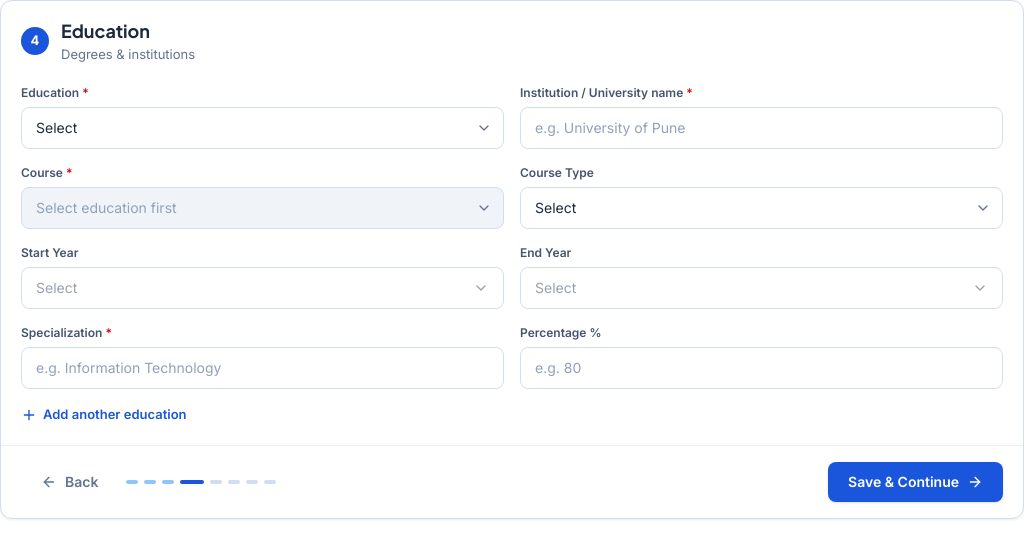
Test: EducationStep › surfaces the rule the API rejected rather than a bare retry prompt
The width and height of the screenshot is (1024, 537).
Select "B.Tech" in the dropdown labelled "Education *" at (262, 128), box [21,106,504,148]
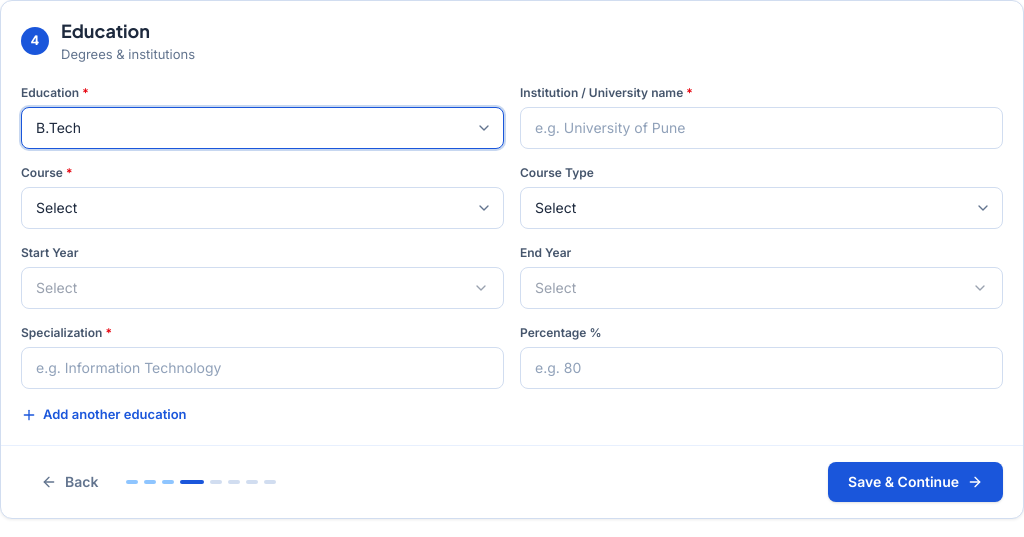
Type "Patna University" into the dropdown labelled "Institution / University name *" at (762, 128), box [520,106,1003,148]
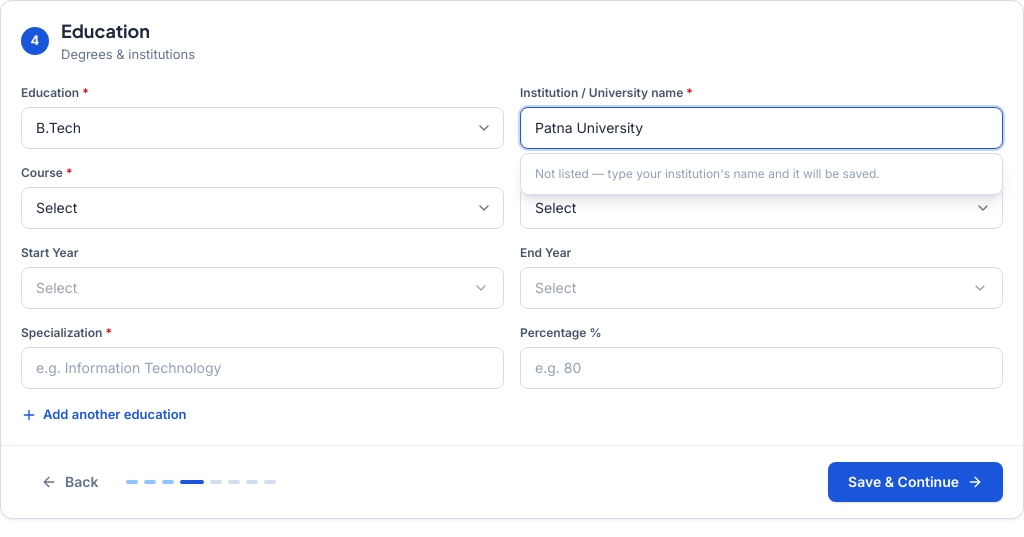
Select "Computer Science and Engineering" in the dropdown labelled "Course *" at (262, 208), box [21,186,504,228]
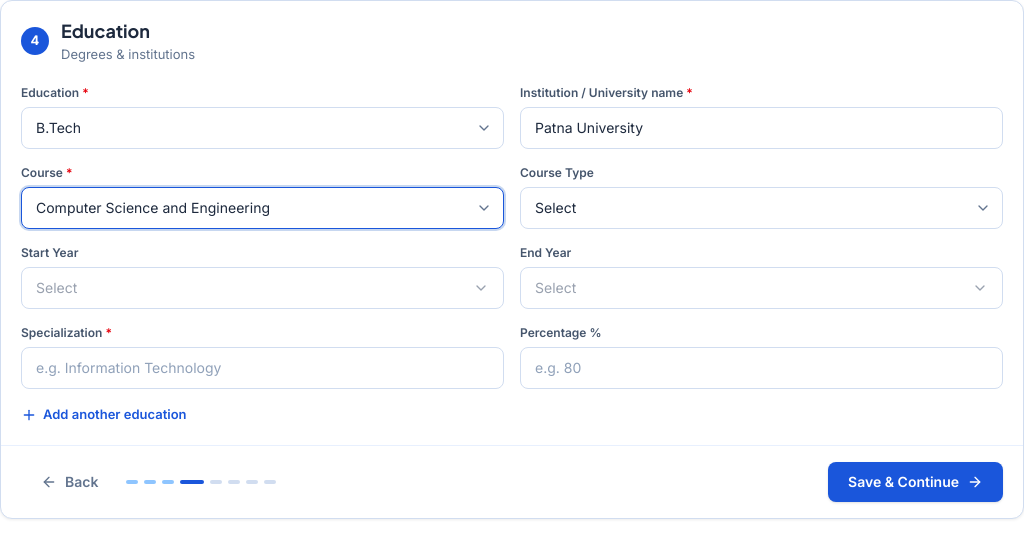
Type "Computer Science" into the field labelled "Specialization *" at (262, 368), box [21,346,504,388]
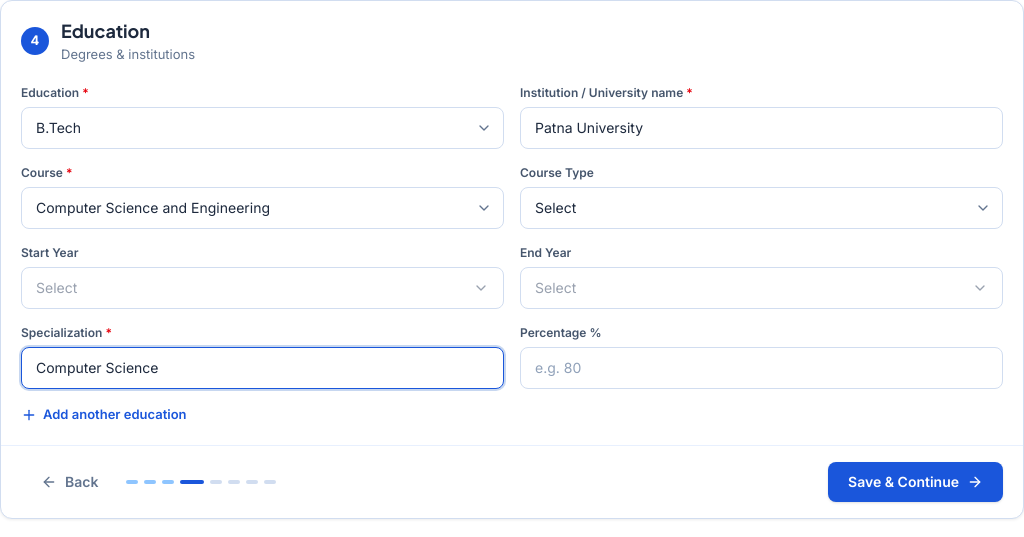
Click the button "Save & Continue" at (916, 482), box [828,462,1003,502]
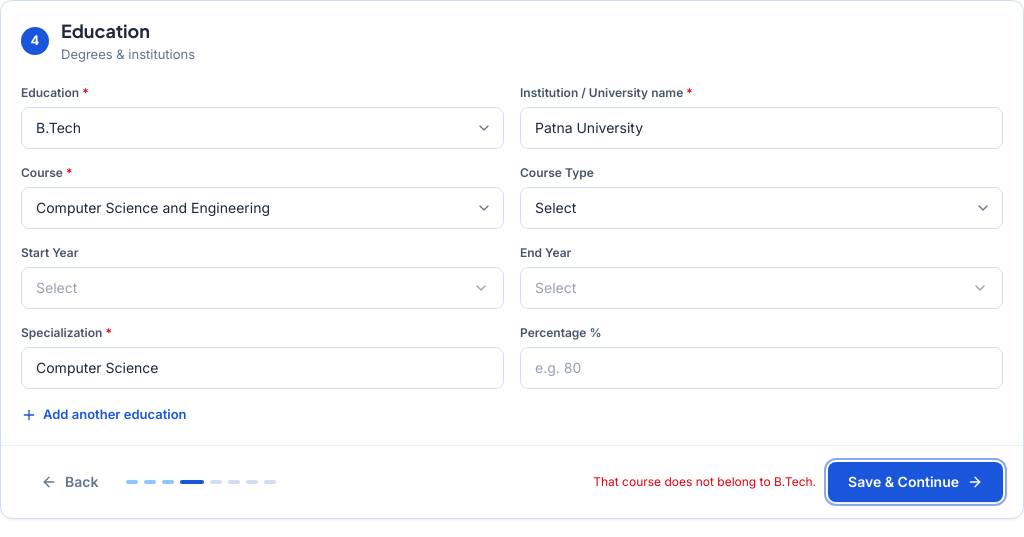
Expected: the text "That course does not belong to B.Tech." is shown, [593,474,816,490]
